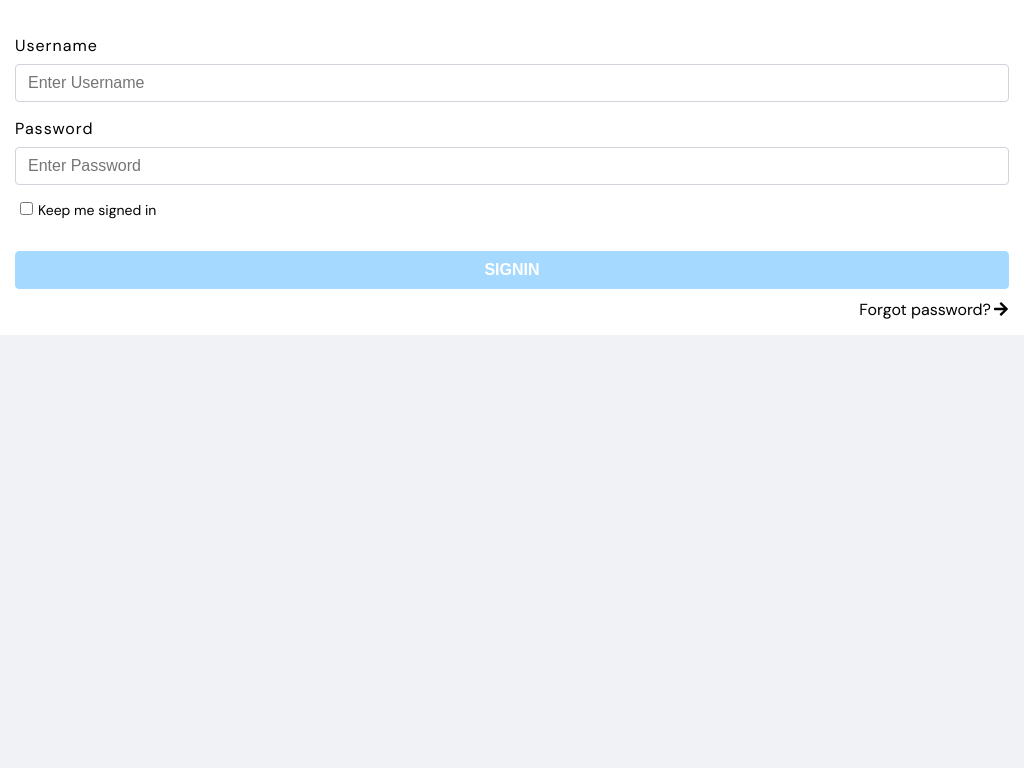
it: SignIn › Button › should change label when clicked
The image size is (1024, 768).
Type "manny" into the field labelled "Username" at (512, 83), box [15,64,1009,102]
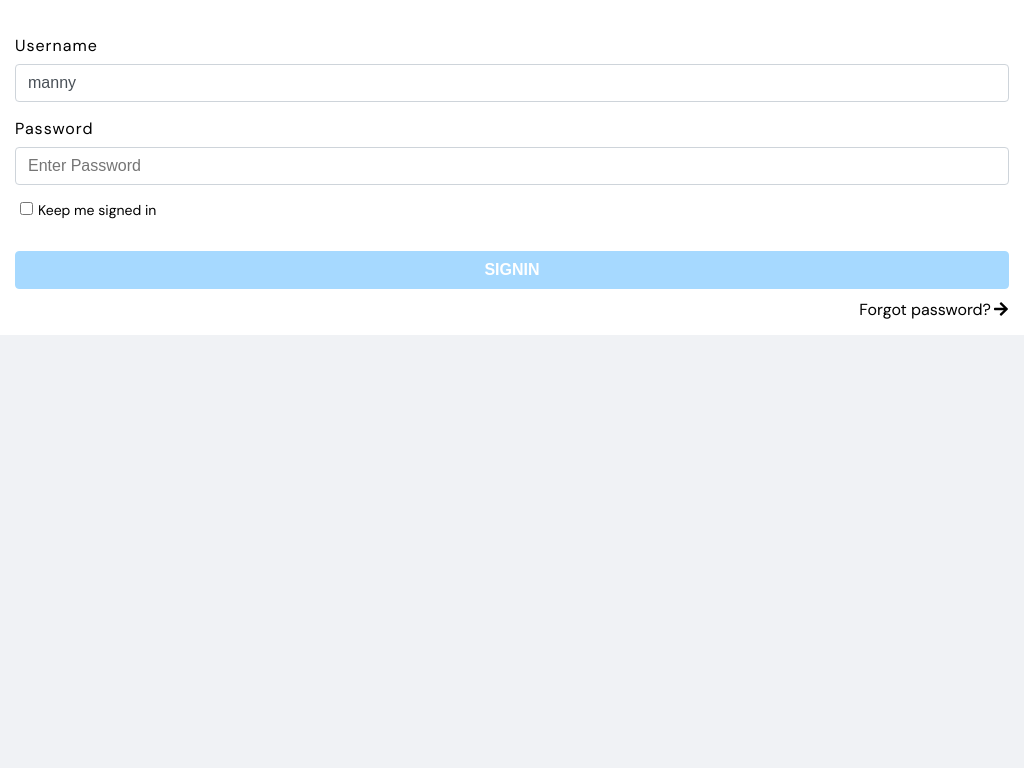
Type "qwerty" into the password field labelled "Password" at (512, 166), box [15,147,1009,185]
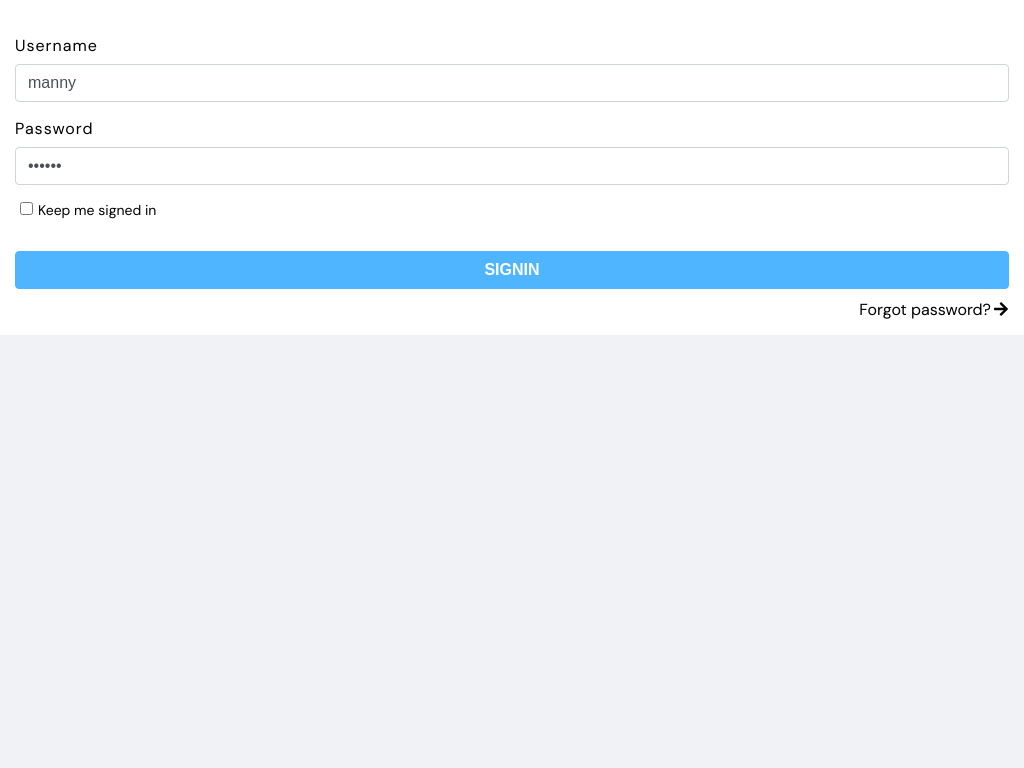
Click the button at (512, 270), box [15,251,1009,289]
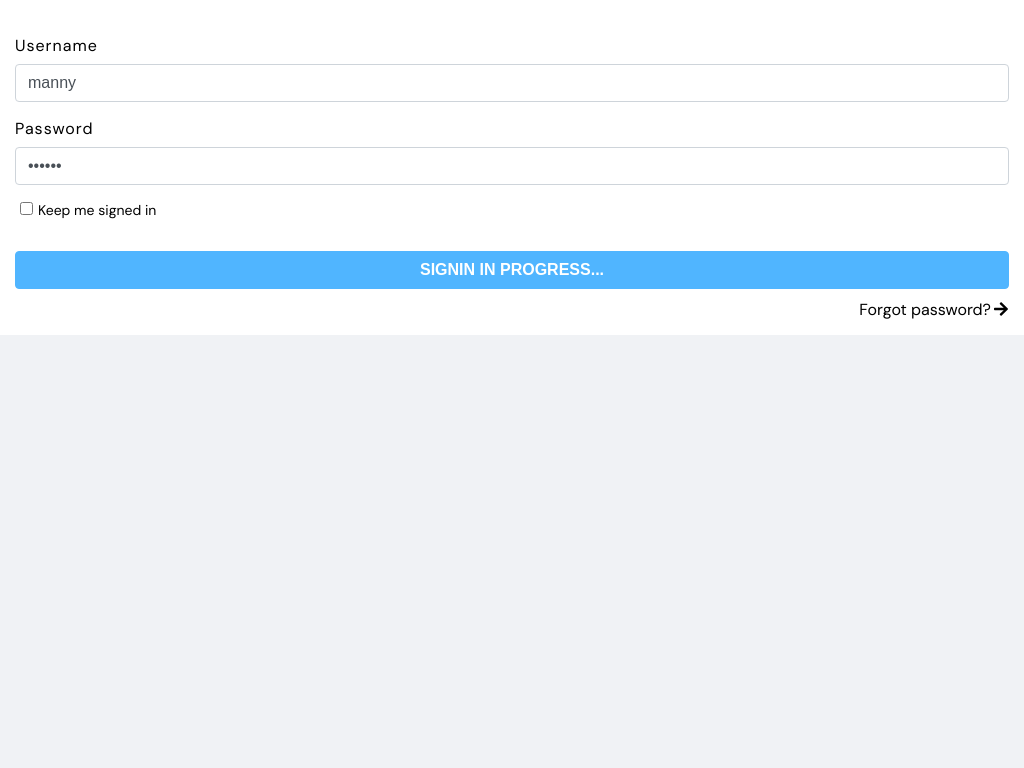
Expected: the button reads "SIGNIN IN PROGRESS...", [15,251,1009,289]
